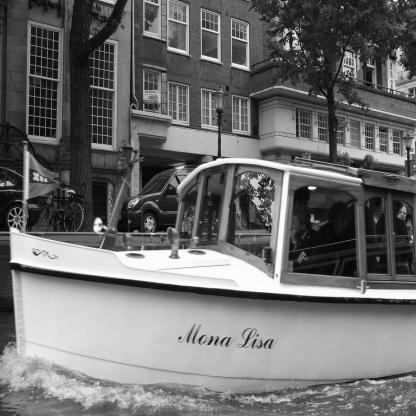car: (123, 162, 203, 235), (1, 162, 42, 233)
